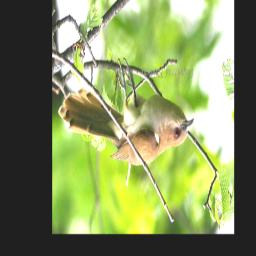Cuckoo: (57, 58, 195, 166)
